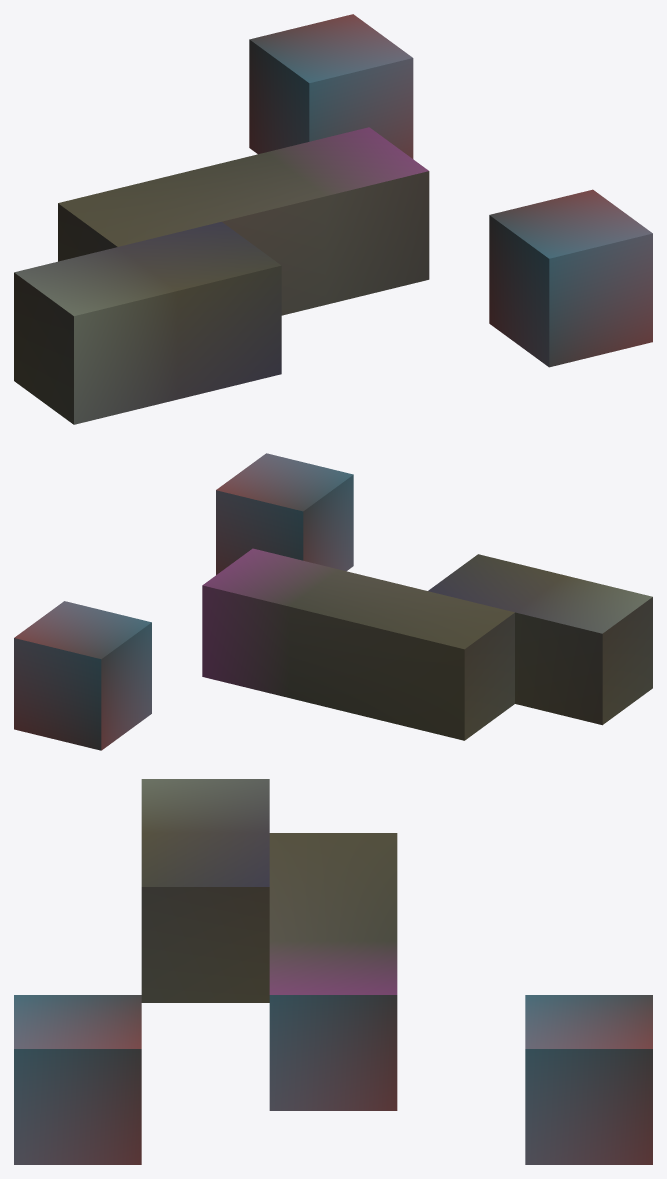
Rendered from CigaretteButt_A_00.fbx.
The picture shows the model from 3 angles, top to bottom: view 1: azimuth 30°, elevation 25°; view 2: azimuth 150°, elevation 25°; view 3: azimuth 270°, elevation 25°; orthographic projection. The views are drawn at different scales.
Parts seen in each view (by area): view 1: CigaretteButt_A_00; view 2: CigaretteButt_A_00; view 3: CigaretteButt_A_00.
Part boxes in pixels (x1,y1,x2,y2): CigaretteButt_A_00: (14, 14, 652, 424); CigaretteButt_A_00: (14, 453, 652, 750); CigaretteButt_A_00: (14, 779, 652, 1164).
Size of the model in its own units: 25 by 5 by 25.
